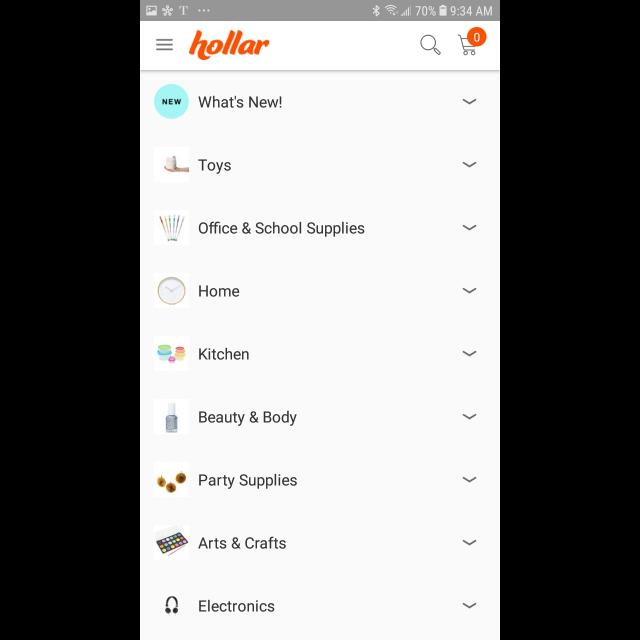icon: (458, 28, 487, 56), (420, 35, 440, 55), (156, 39, 174, 51), (463, 603, 477, 609), (463, 540, 477, 546), (463, 477, 477, 483), (463, 414, 477, 420), (463, 351, 477, 357), (463, 288, 477, 294), (463, 225, 477, 231), (463, 162, 477, 168), (463, 99, 477, 105)
image: (189, 31, 269, 61), (155, 524, 189, 560), (155, 462, 189, 498), (155, 398, 189, 434), (155, 336, 189, 372), (155, 272, 189, 308), (155, 210, 189, 246), (155, 148, 189, 182), (166, 596, 178, 616)
text: (199, 222, 365, 238), (199, 474, 297, 490), (199, 410, 297, 426), (198, 536, 286, 548), (198, 96, 282, 108), (199, 600, 275, 612), (199, 348, 249, 360), (200, 285, 240, 297), (198, 160, 232, 174)
textbutton: (155, 85, 189, 119)
uppertaskbar: (140, 1, 500, 22)
